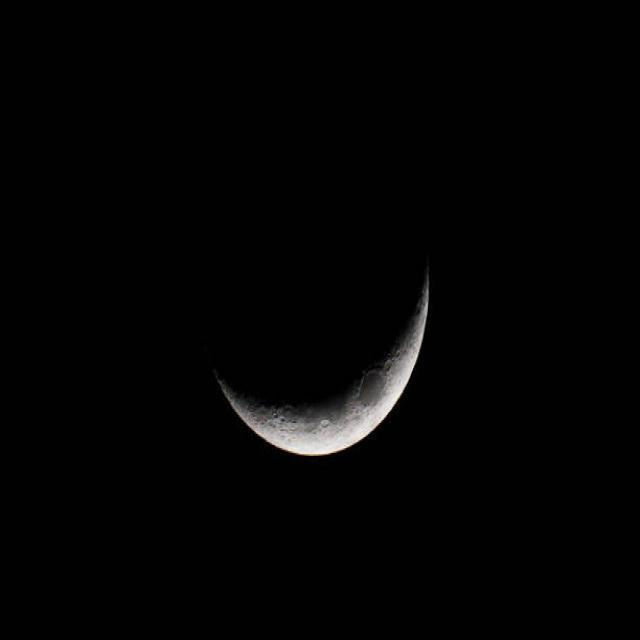moon: (196, 138, 428, 448)
